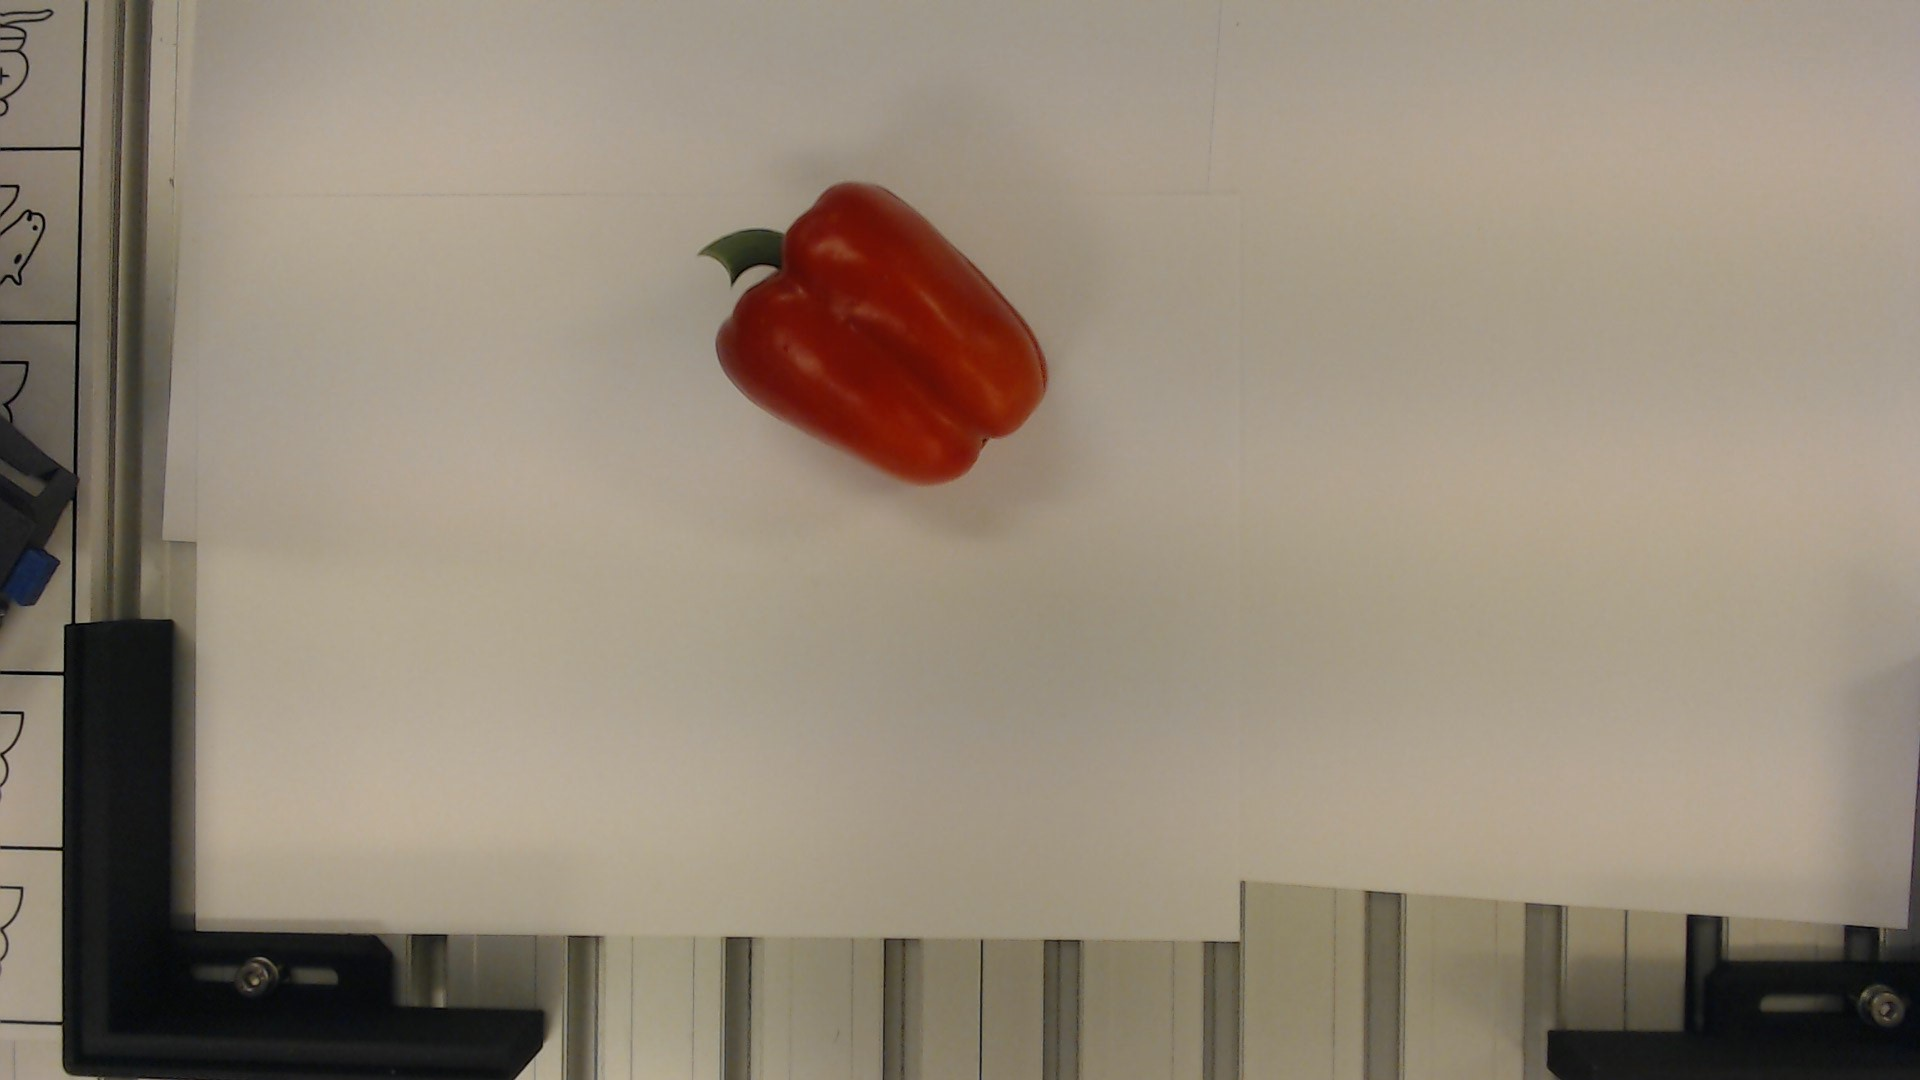Red Bell Pepper: (695, 166, 1056, 487)
